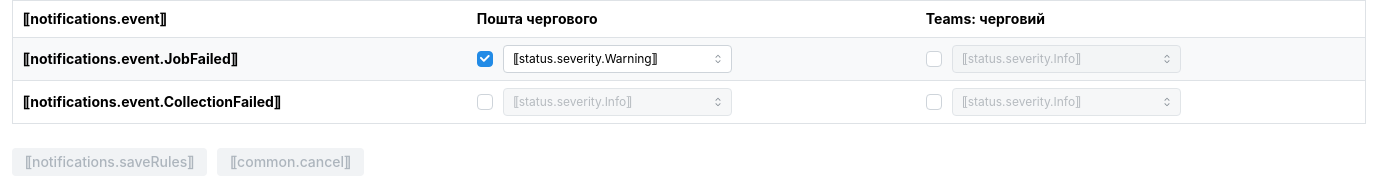
Scenario: RulesMatrixPanel: незбережені правки (U14a) › повернення клітинки до вихідного стану — вже не зміна
This screenshot has width=1378, height=193.
Click the checkbox named "⟦notifications.event.JobFailed⟧ · Пошта чергового" at (485, 59), box [477, 51, 493, 67]
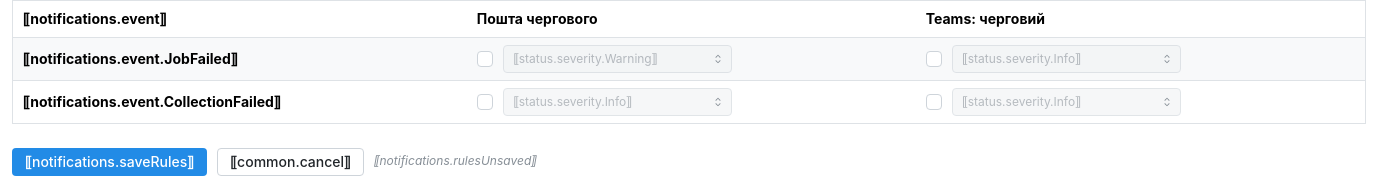
Click the checkbox named "⟦notifications.event.JobFailed⟧ · Пошта чергового" at (485, 59), box [477, 51, 493, 67]
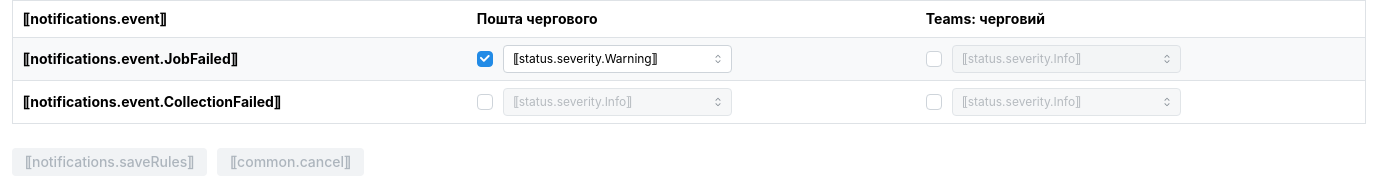
Check: the button "⟦notifications.saveRules⟧" is disabled, box [12, 148, 207, 176]
